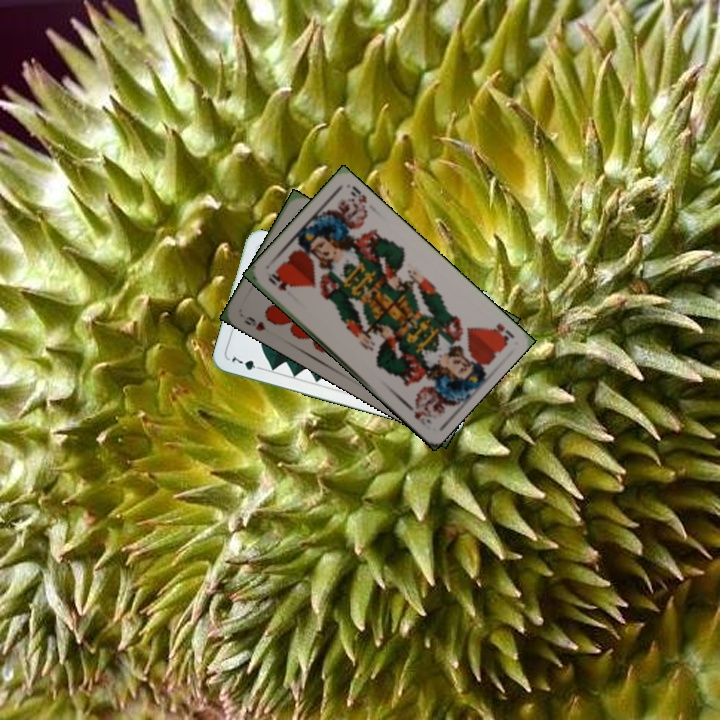G7: (227, 351, 266, 373)
H9: (240, 312, 268, 334)
HO: (486, 319, 517, 346), (264, 269, 289, 294)
